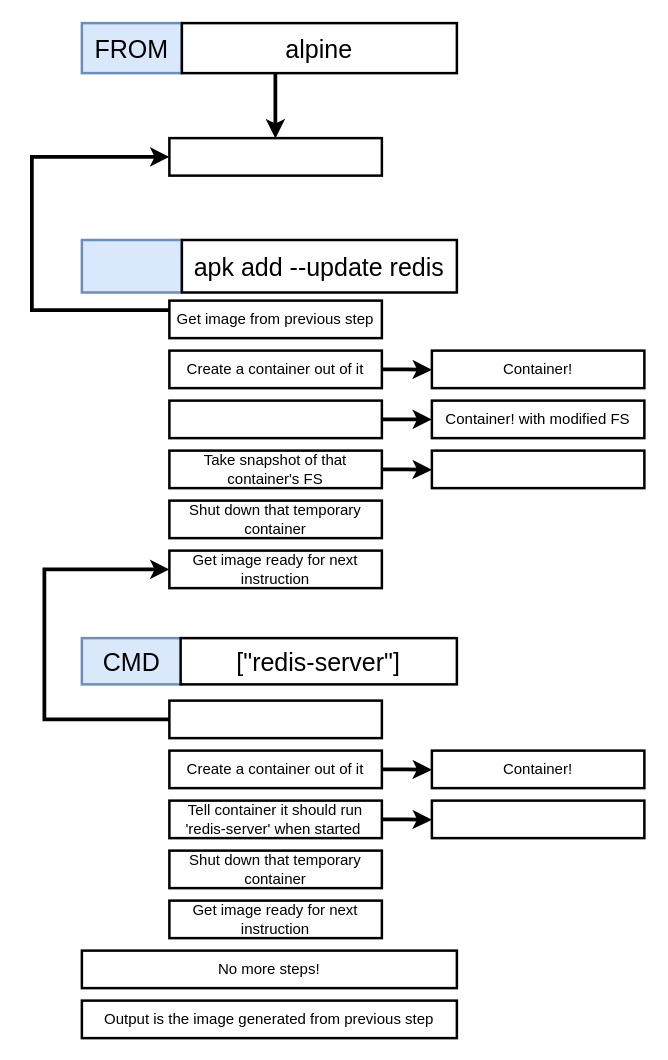
This 668x1060 diagram has some shape labels left out. The centre of each missing label's shape, as x and y in pixels:
Container! with modified primary command: (x=537, y=819)
Download alpine image: (x=275, y=156)
FS snapshot: (x=537, y=469)
Get image from last step: (x=275, y=719)
RUN: (x=131, y=265)
Run 'apk add --update redis' in it: (x=275, y=419)
